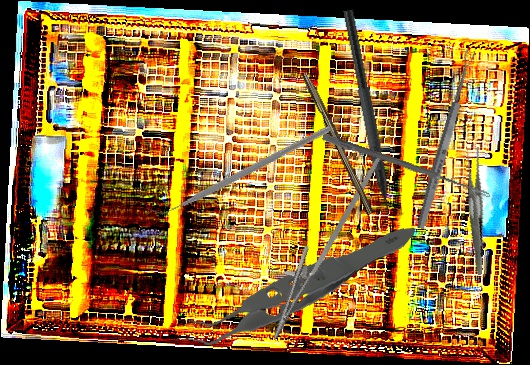Chopper: (146, 68, 332, 269), (327, 9, 400, 233)
Dressing Forceps: (436, 144, 513, 276)
Needle Holder: (257, 137, 384, 350)
Scalpel Handle: (299, 70, 378, 216)
Surgical Spoon: (414, 48, 478, 231), (321, 133, 492, 199)
Tissue Forceps: (169, 207, 416, 362)
